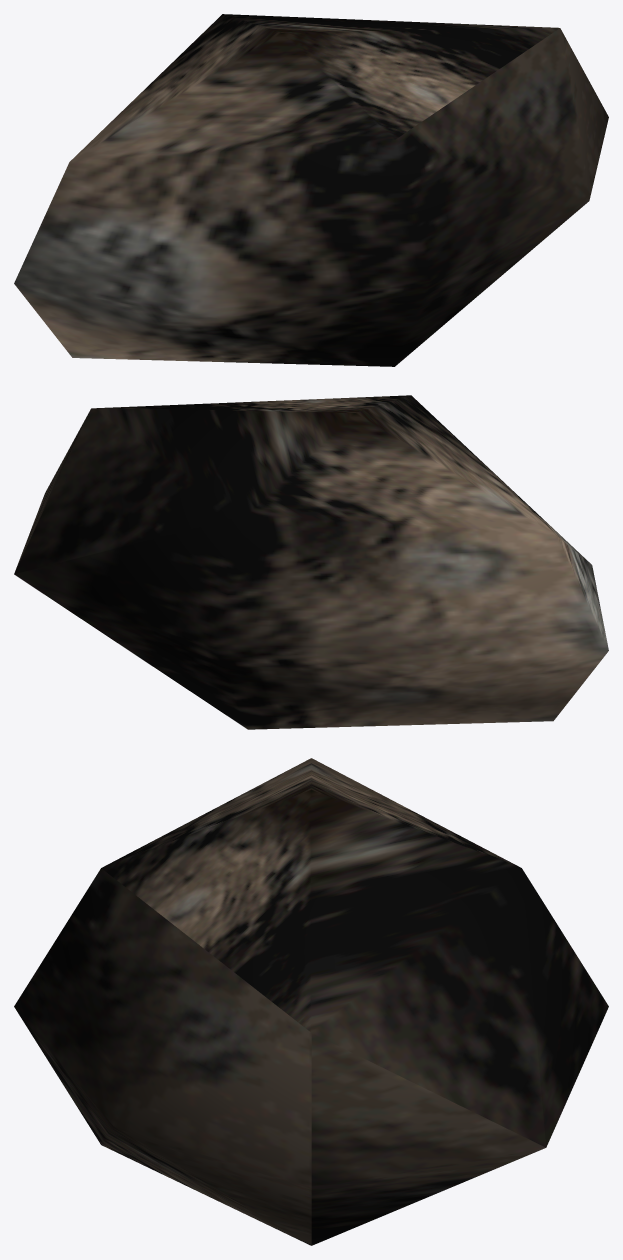
The model's file is bgrnd03-low.obj.
The picture shows the model from 3 angles, top to bottom: view 1: azimuth 30°, elevation 25°; view 2: azimuth 150°, elevation 25°; view 3: azimuth 270°, elevation 25°; orthographic projection. The views are drawn at different scales.
Parts seen in each view (by area): view 1: frm-low; view 2: frm-low; view 3: frm-low.
Part boxes in pixels (bbox=[...]): frm-low: bbox=[14, 14, 608, 366]; frm-low: bbox=[14, 395, 608, 729]; frm-low: bbox=[14, 758, 608, 1245].
Size of the model in its own units: 12.66 by 6.58 by 8.98.
